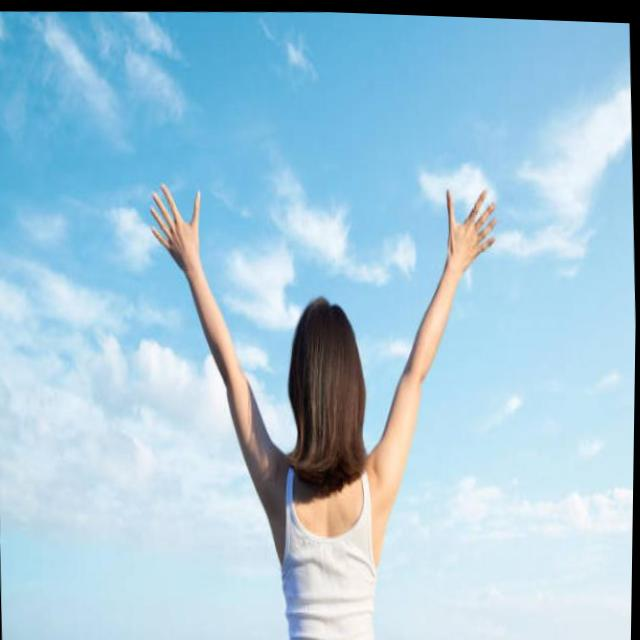no helmet: (279, 287, 379, 462)
